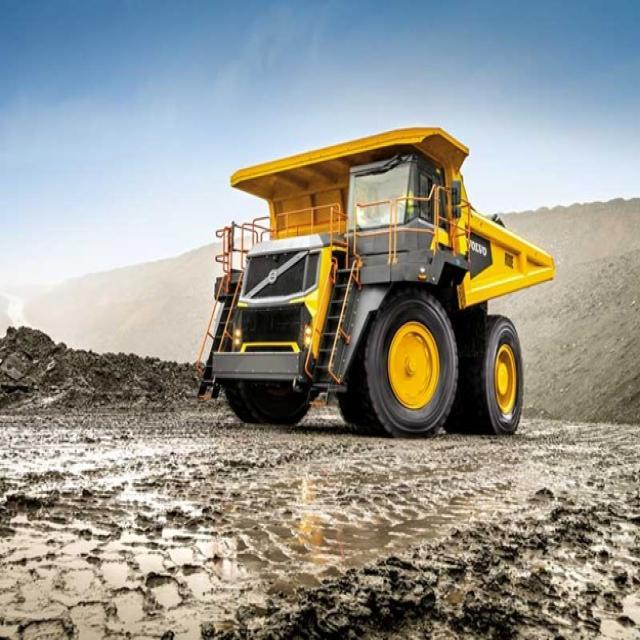dump_truck: (193, 126, 572, 442)
